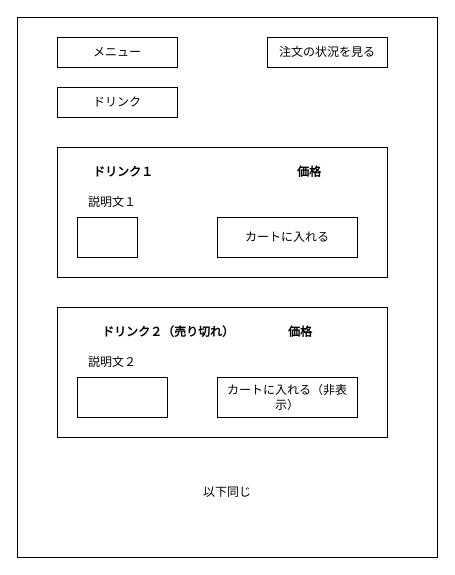
Some shapes in this 455 by 575 pixel diagram are drawn without their labels. The shapes that lost their labels are listed below. From the top down, each one's box as (x1, y1, x2, y2) in pixels, then its label:
(76, 216, 138, 258): 個数
(76, 376, 168, 418): 個数（非表示）
